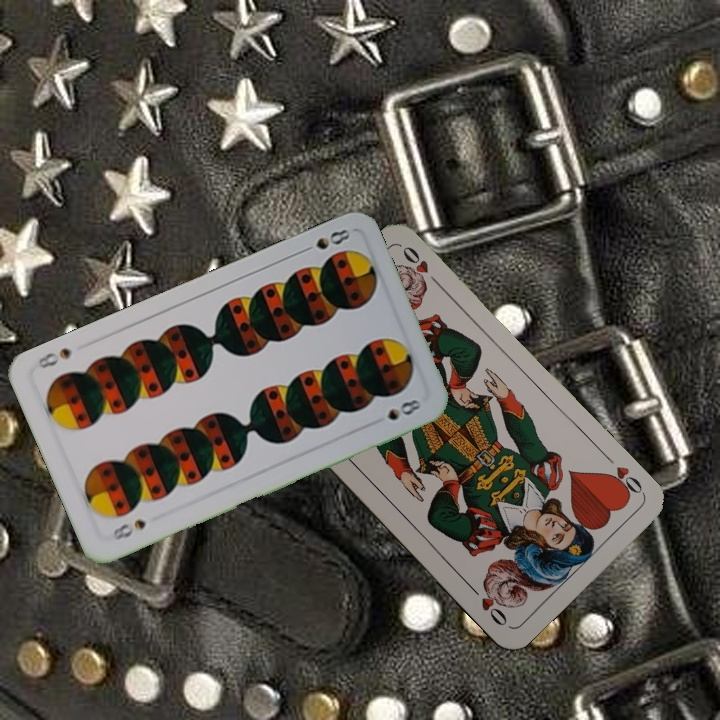HO: (600, 462, 647, 502)
S8: (296, 224, 353, 256), (109, 515, 149, 543)
